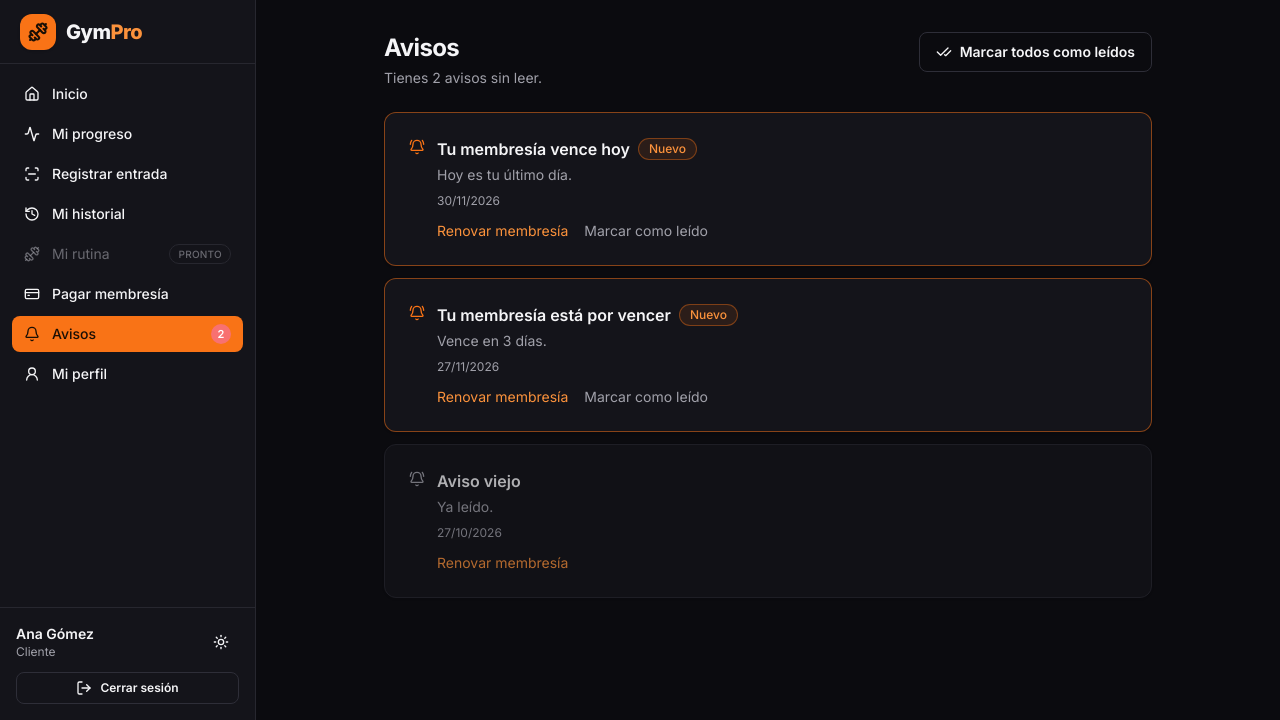
Scenario: Avisos › marca todos como leídos
Click the button "Marcar todos como leídos": (1035, 52) [919, 32, 1152, 72]
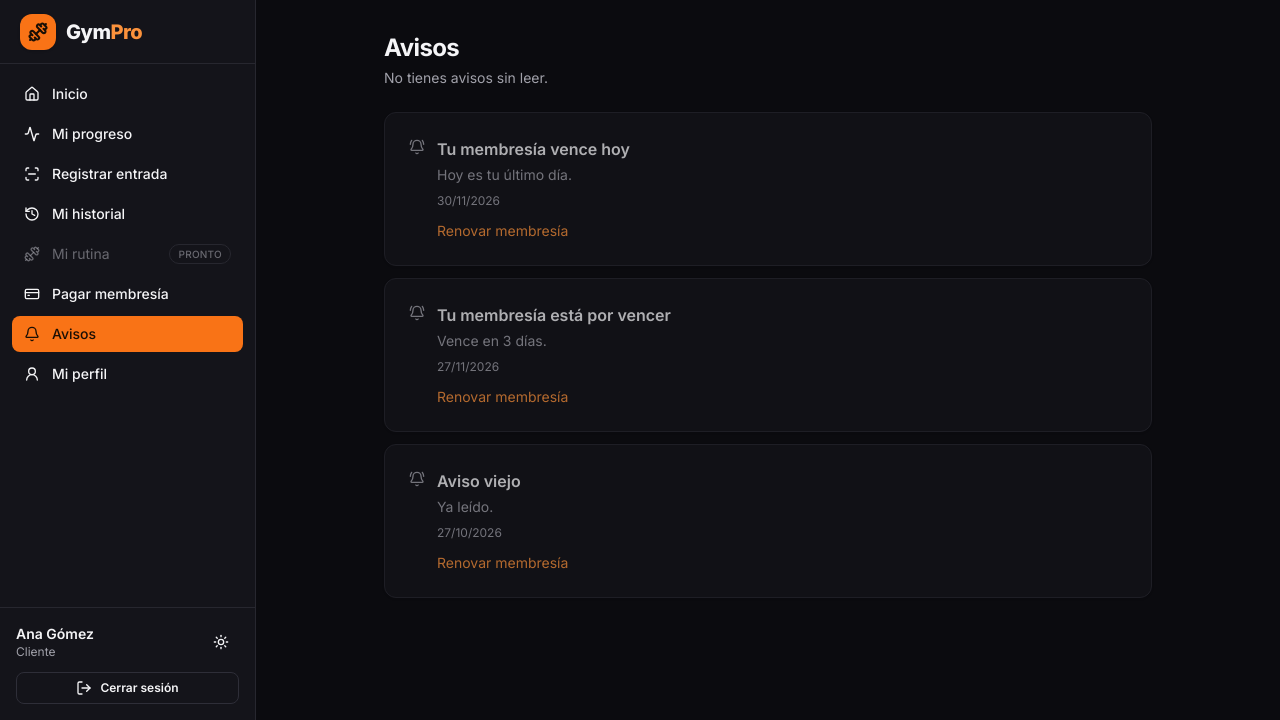
Expected: the text "No tienes avisos sin leer." is shown, [384, 68, 548, 88]
Expected: the button "Marcar todos como leídos" is gone
